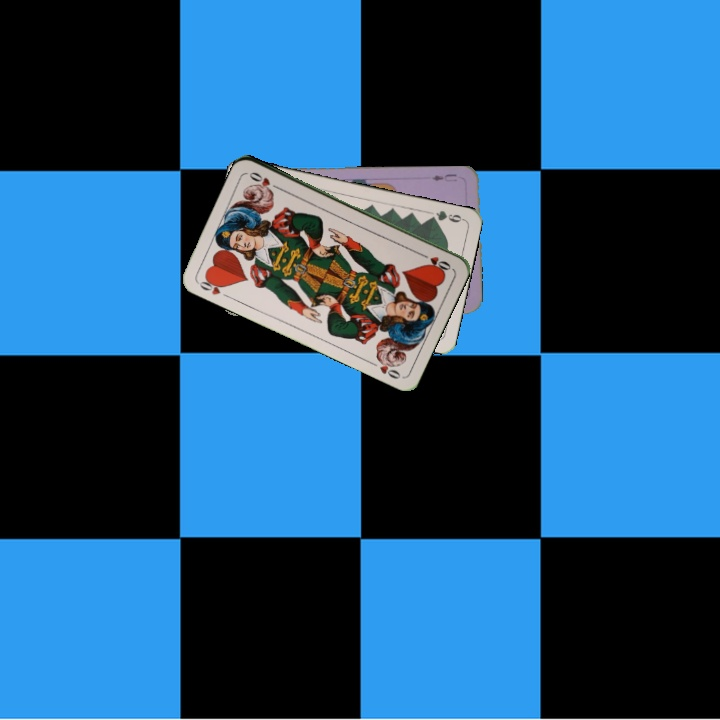EU: (428, 170, 459, 184)
G9: (425, 206, 466, 225)
HO: (416, 249, 454, 273), (194, 273, 229, 298)
